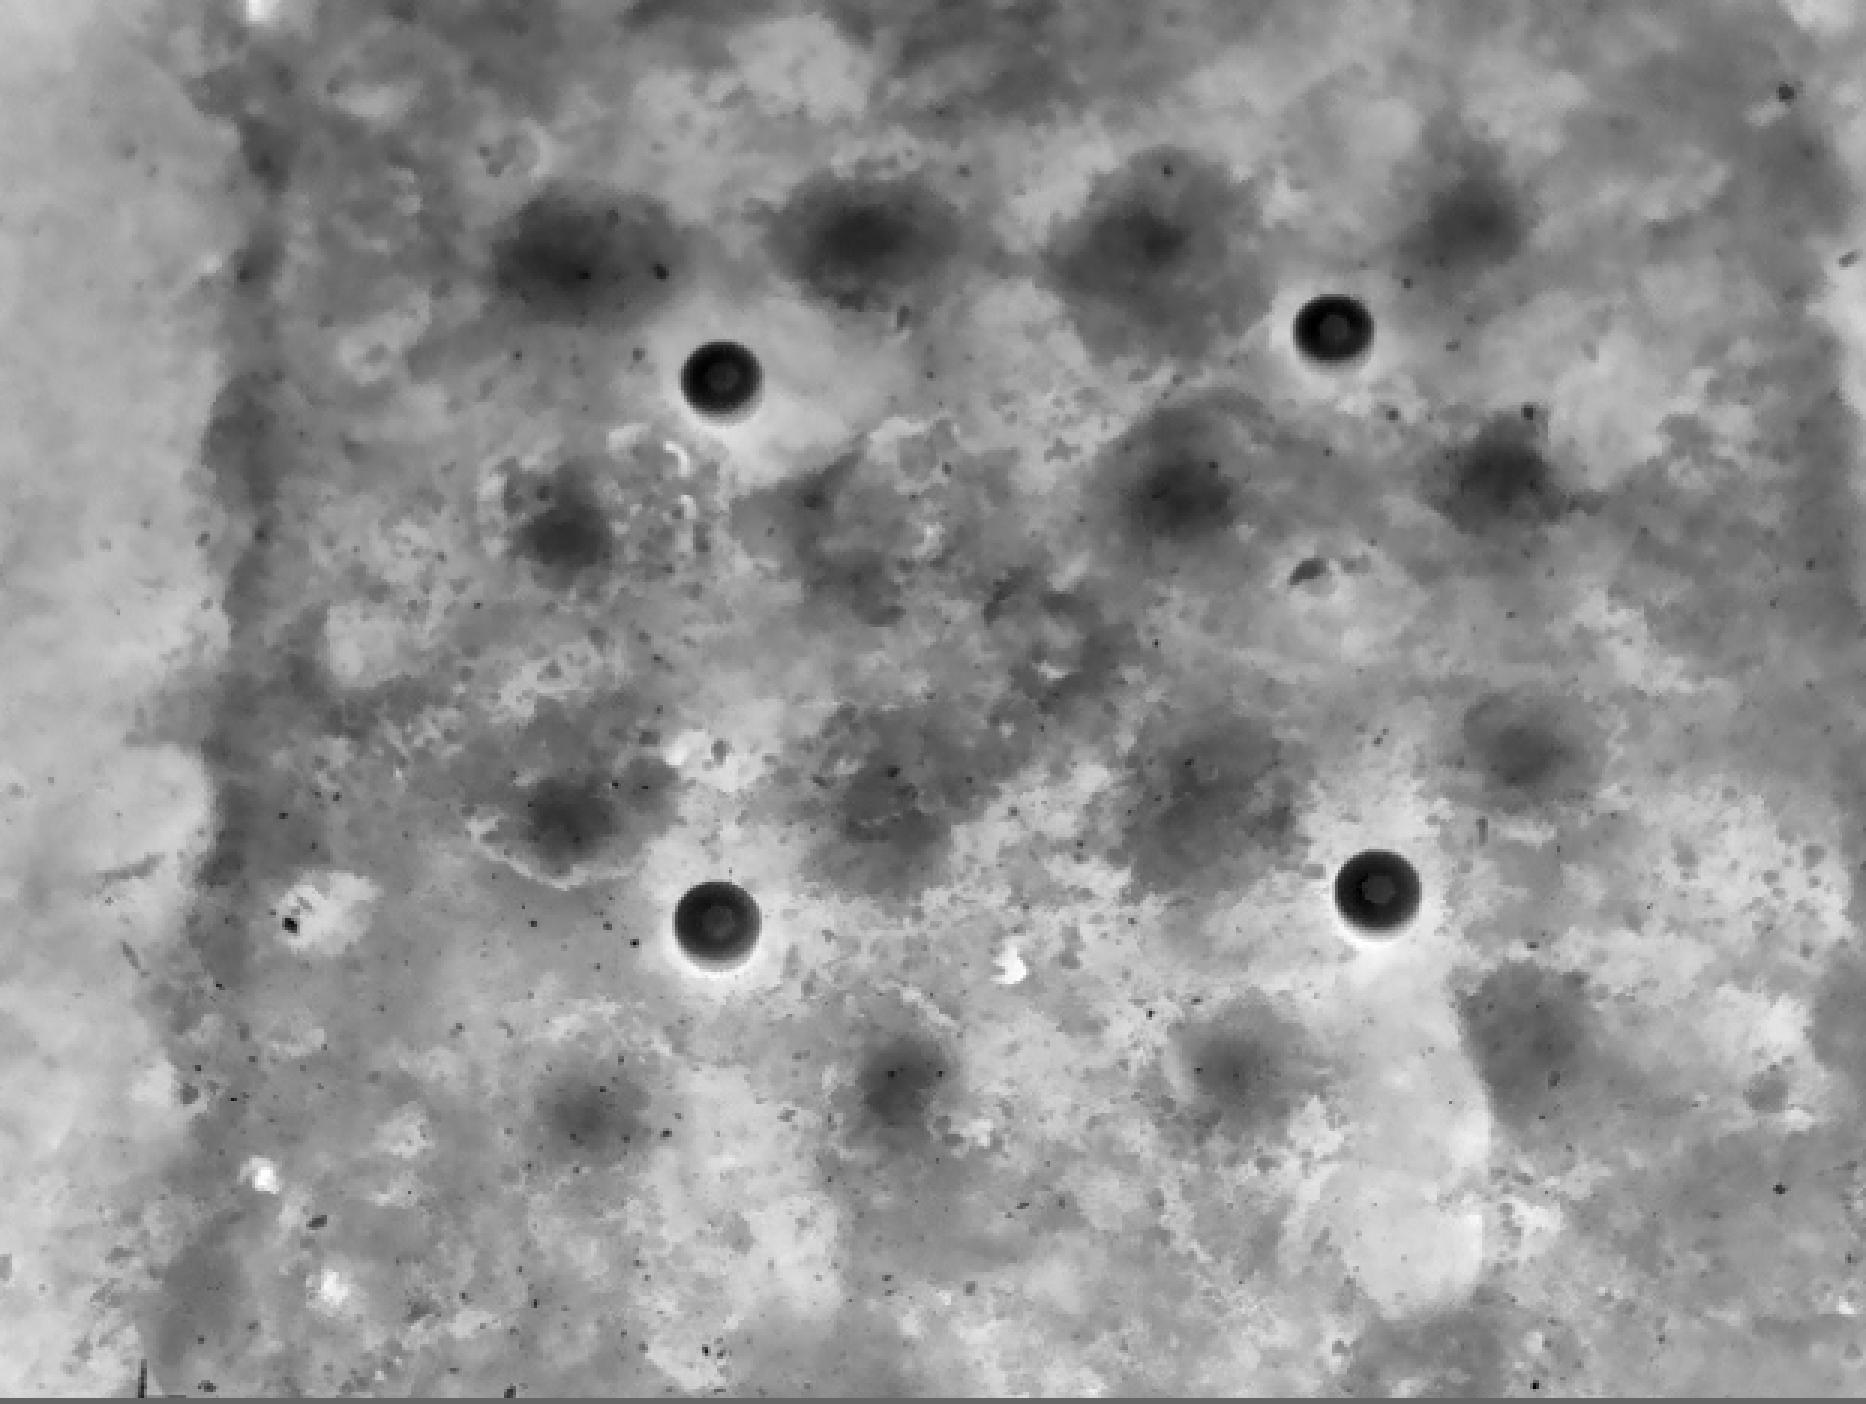mines-gjV8: (679, 875, 769, 967), (1338, 852, 1432, 936), (1292, 292, 1381, 380), (684, 338, 766, 428)
